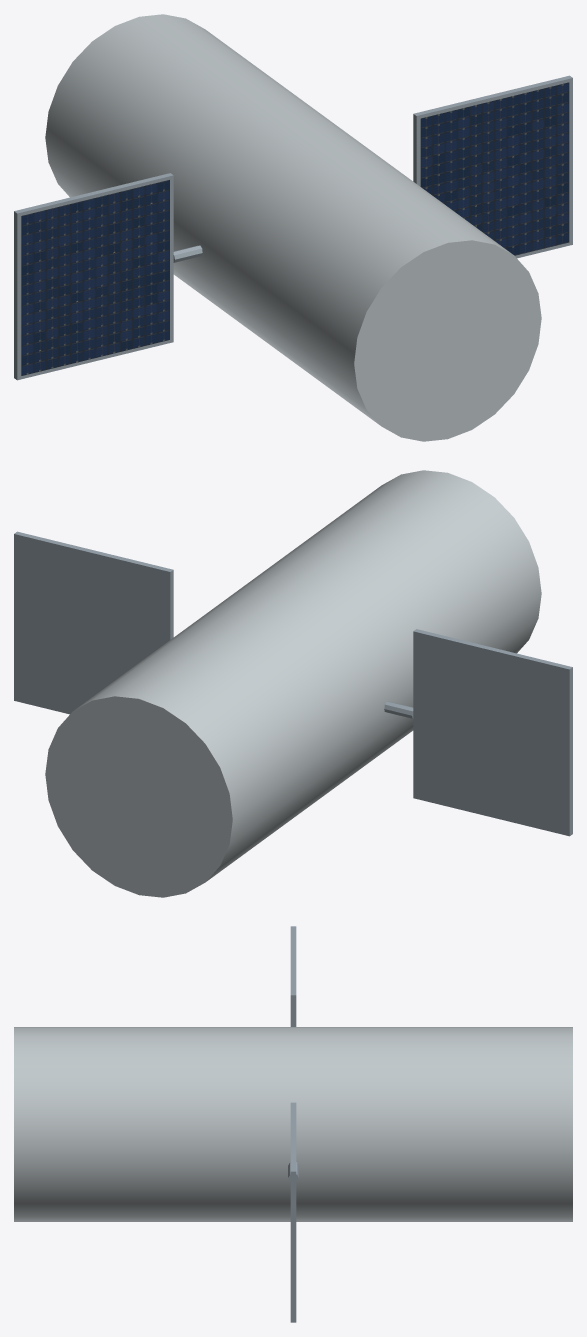
Rendered from ref-gamma-20683.glb.
3 renders of one model, top to bottom at view 1: azimuth 30°, elevation 25°; view 2: azimuth 150°, elevation 25°; view 3: azimuth 270°, elevation 25°, orthographic. The views are drawn at different scales.
Parts seen in each view (by area): view 1: Spacecraft body, Photovoltaic laminates (×2), Array frame (×2); view 2: Spacecraft body, Array frame (×2); view 3: Spacecraft body, Array frame (×2).
Part boxes in pixels (x1,y1,x2,y2): Spacecraft body: (45, 14, 541, 441); Photovoltaic laminates (×2): (21, 82, 569, 375); Array frame (×2): (14, 75, 572, 380); Spacecraft body: (45, 470, 541, 897); Array frame (×2): (14, 531, 572, 836); Spacecraft body: (14, 1027, 572, 1221); Array frame (×2): (290, 926, 296, 1322).
Size of the model in its own units: 8 by 2.7 by 7.7.
Materials: 3 (1 with a texture image).
